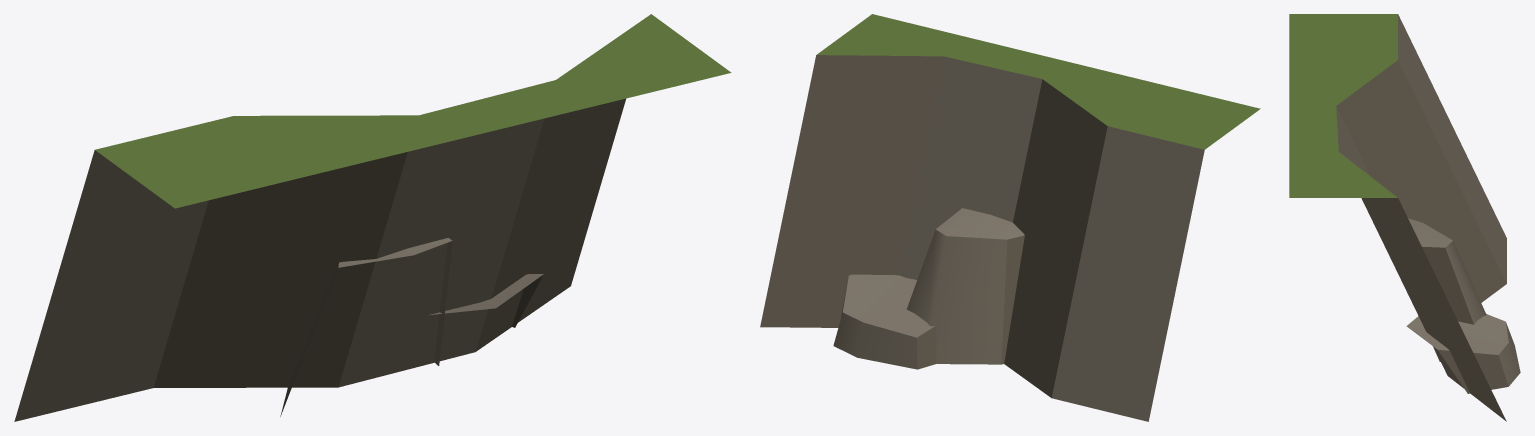
File: SF_Env_CliffEdge_Straight_03.fbx
3 views of the same model, side by side, from view 1: azimuth 30°, elevation 25°; view 2: azimuth 150°, elevation 25°; view 3: azimuth 270°, elevation 25° (orthographic). The views are drawn at different scales.
Parts seen in each view (by area): view 1: SF_Env_CliffEdge_Straight_03; view 2: SF_Env_CliffEdge_Straight_03; view 3: SF_Env_CliffEdge_Straight_03.
Boxes of the visible parts, <box> form: SF_Env_CliffEdge_Straight_03: <box>14,14,731,421</box>; SF_Env_CliffEdge_Straight_03: <box>760,14,1260,421</box>; SF_Env_CliffEdge_Straight_03: <box>1289,14,1520,421</box>.
Size of the model in its own units: 10 by 5.68 by 5.32.
